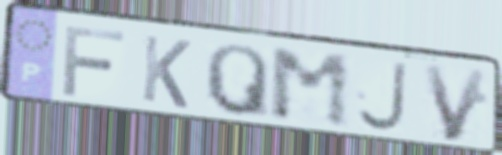F: (60, 23, 129, 99)
J: (354, 59, 409, 134)
K: (138, 32, 194, 112)
M: (267, 46, 353, 131)
Q: (202, 42, 272, 122)
V: (419, 61, 492, 145)
